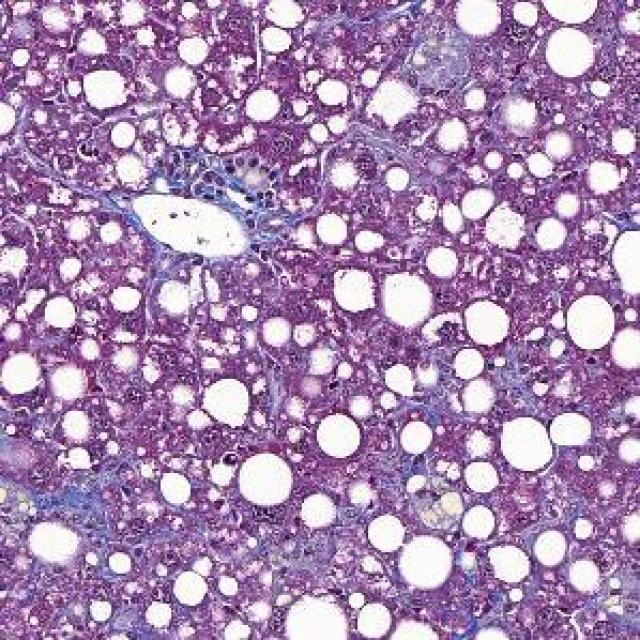fibrosis: (169, 148, 330, 208)
